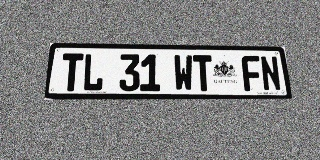1: (140, 54, 160, 91)
3: (119, 54, 140, 91)
F: (241, 56, 263, 91)
L: (82, 54, 104, 91)
N: (259, 56, 282, 91)
T: (60, 53, 84, 91), (193, 55, 214, 91)
W: (173, 55, 194, 91)
